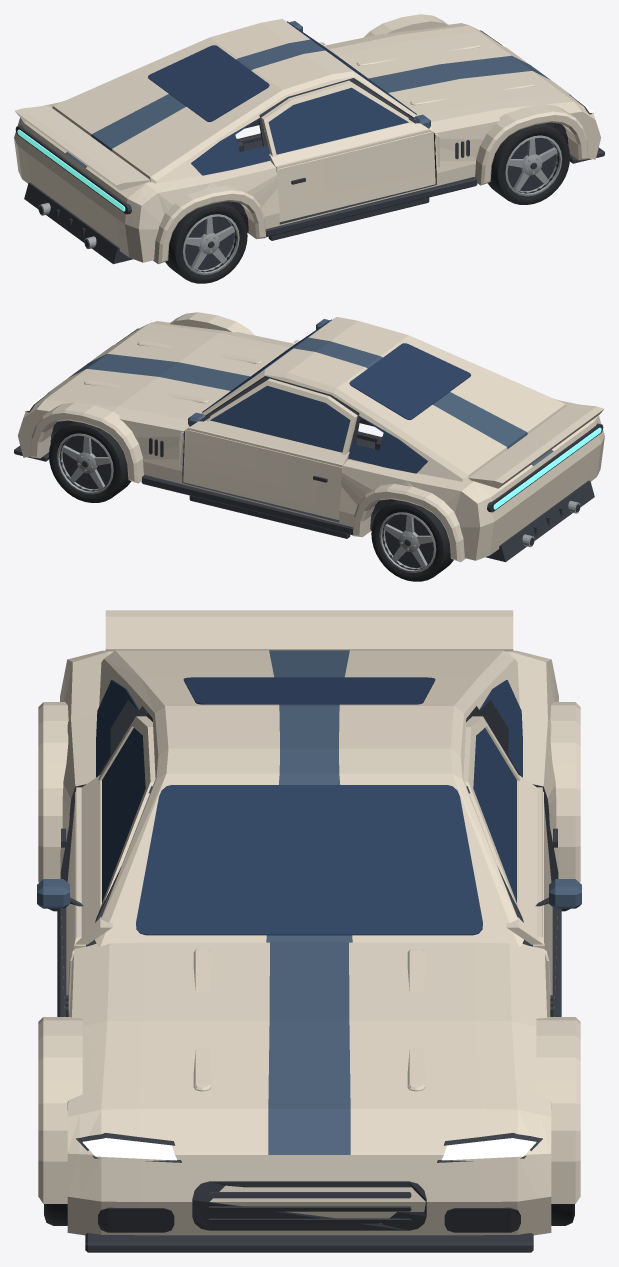
3 renders of one model, top to bottom at view 1: azimuth 30°, elevation 25°; view 2: azimuth 150°, elevation 25°; view 3: azimuth 270°, elevation 25°, orthographic. The views are drawn at different scales.
Visible parts, largest first — view 1: G26_body, door-right, wheel-rear-right, wheel-front-right; view 2: G26_body, door-left, wheel-rear-left, wheel-front-left; view 3: G26_body, door-left, door-right.
Part boxes in pixels (x1,y1,x2,y2): G26_body: (14,14,604,264); door-right: (258,78,435,221); wheel-rear-right: (165,201,247,283); wheel-front-right: (487,123,569,204); G26_body: (14,312,604,562); door-left: (183,376,360,519); wheel-rear-left: (371,499,453,581); wheel-front-left: (49,421,131,502); G26_body: (37,610,581,1252); door-left: (463,713,557,995); door-right: (61,713,155,995).
Size of the model in its own units: 4.4 by 1.31 by 2.14.
